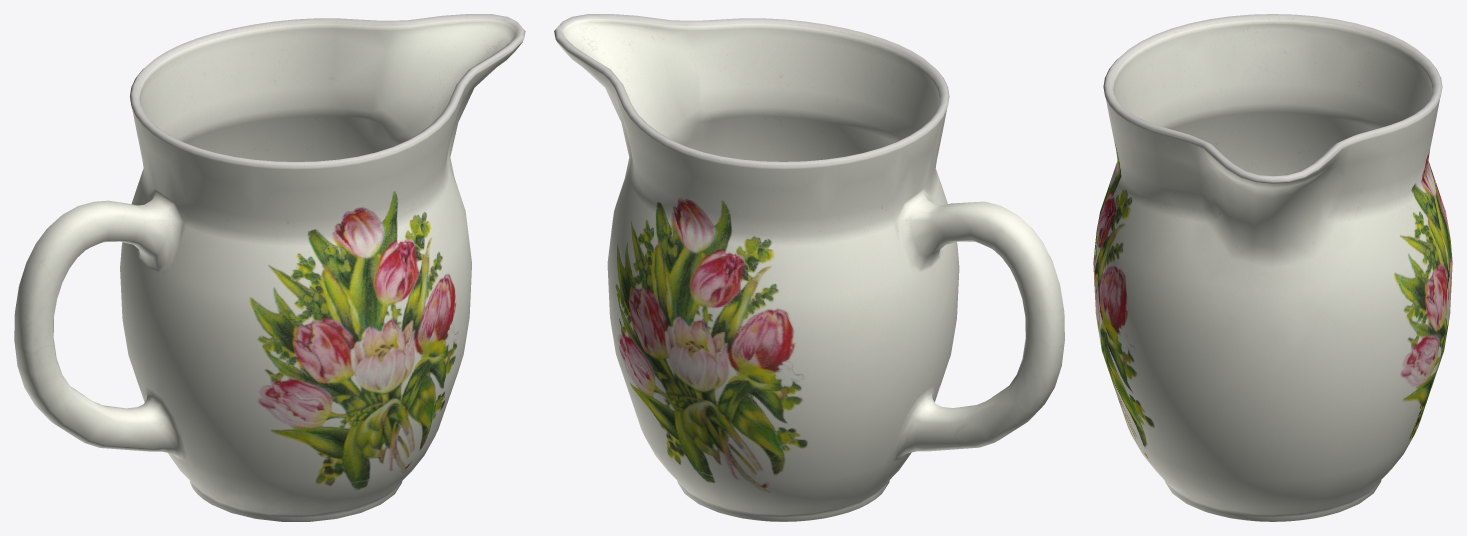
File: jug_01_lod1.glb
3 views of the same model, side by side, from view 1: azimuth 30°, elevation 25°; view 2: azimuth 150°, elevation 25°; view 3: azimuth 270°, elevation 25° (orthographic). The views are drawn at different scales.
Parts seen in each view (by area): view 1: jug_01; view 2: jug_01; view 3: jug_01.
Part boxes in pixels (x1,y1,x2,y2): jug_01: [14, 14, 525, 521]; jug_01: [554, 14, 1064, 521]; jug_01: [1093, 14, 1452, 521].
Bounding box in the file's own units: 0.275 × 0.2113 × 0.1675.
Materials: 1 (1 with a texture image).
